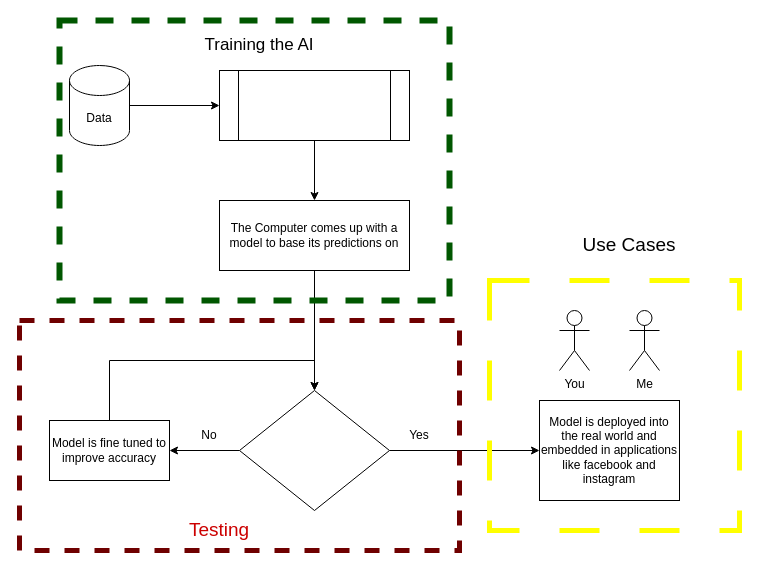
The diagram is 759 pixels wide and 570 high, and some of its shapes have lost their labels. The shapes that lost their labels are listed below. From the top down, each one's centre as x and y in pixels, then its label:
point 314,105: Computer Analyses the data
point 314,450: Is the model accurate?
